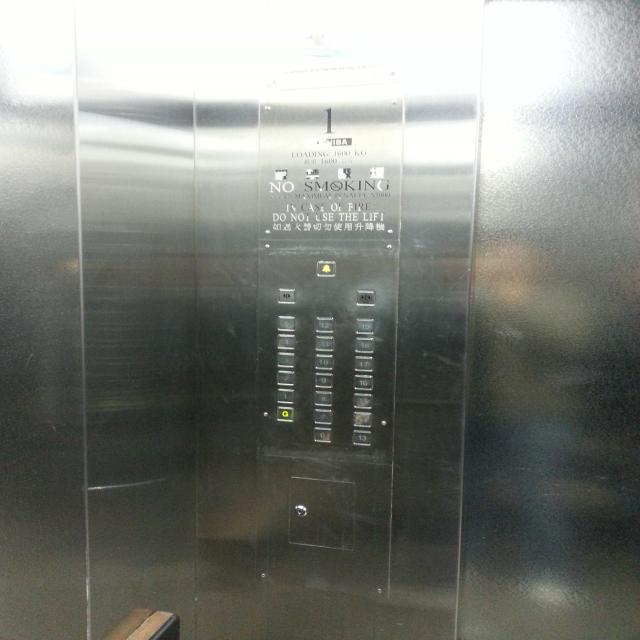1: (276, 388, 295, 404)
10: (313, 353, 334, 370)
11: (314, 334, 335, 352)
12: (314, 316, 334, 334)
13: (351, 429, 373, 447)
16: (353, 374, 374, 391)
17: (354, 355, 374, 372)
18: (354, 336, 375, 354)
19: (354, 317, 375, 335)
2: (276, 369, 295, 387)
3: (276, 351, 296, 368)
4: (275, 333, 295, 350)
5: (275, 314, 296, 331)
6: (312, 426, 332, 444)
7: (313, 408, 333, 425)
8: (314, 390, 334, 407)
9: (313, 372, 334, 389)
G: (275, 405, 295, 423)
alarm: (314, 259, 336, 277)
blur: (352, 392, 374, 410), (352, 410, 373, 428)
close: (354, 288, 376, 307)
open: (276, 287, 297, 304)
